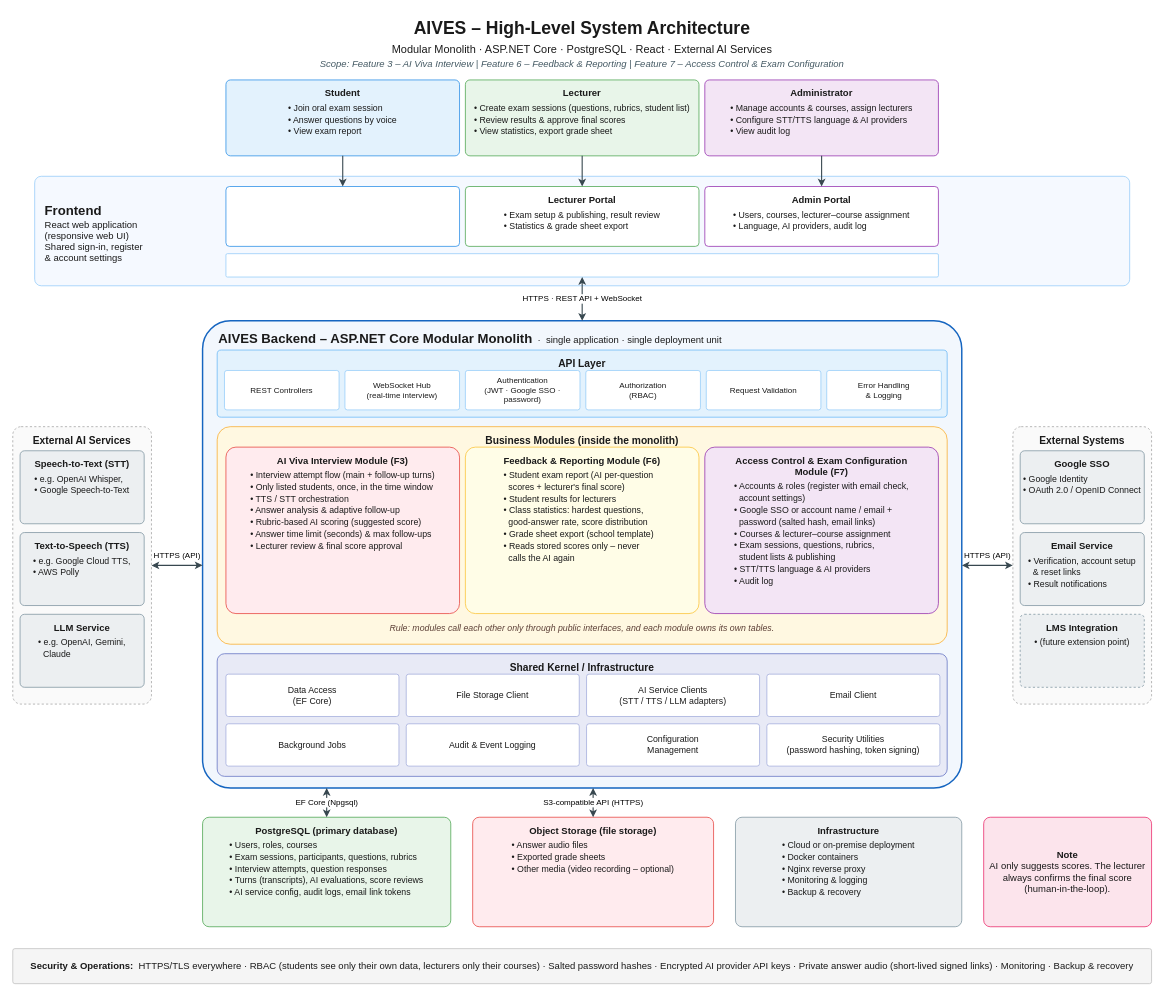
Image size: 1164x996. Some labels were removed from this diagram. Here are the shapes that lost their labels. From the top down, the centre of each, then its label:
At point 342,216: "Student Portal • Oral exam screen (voice, timer) • Exam report".
At point 581,265: "Web Browser (Chrome, Edge, …) · PC / Laptop / Tablet".
